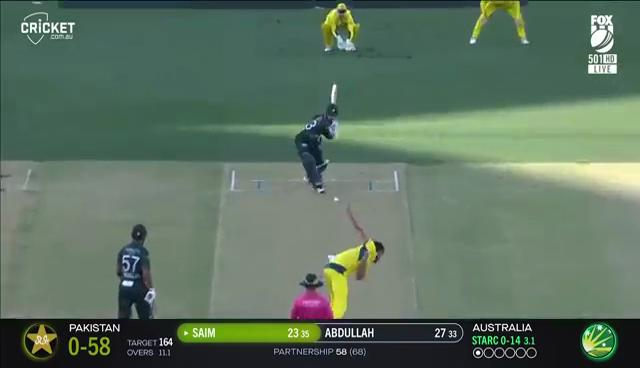ball: (328, 194, 345, 206)
